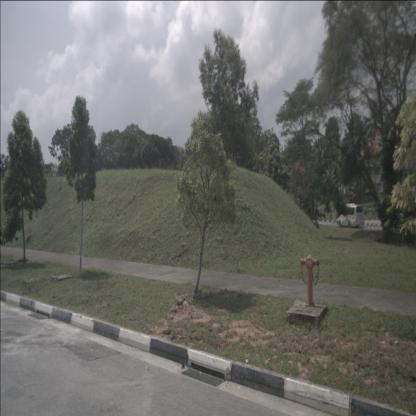vehicle-bus-rigid: (336, 204, 364, 228)
